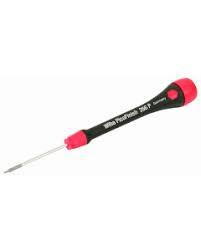screwdriver: (2, 77, 197, 174)
